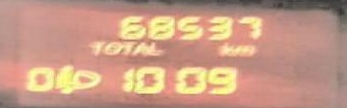0: (173, 65, 207, 94), (22, 64, 54, 93), (135, 64, 162, 93)
1: (119, 64, 132, 92)
3: (206, 14, 234, 41)
5: (176, 14, 203, 39)
6: (118, 14, 145, 39)
7: (237, 14, 264, 39)
8: (146, 13, 174, 40)
9: (207, 66, 240, 95)
X: (84, 40, 104, 56), (217, 41, 234, 56), (104, 40, 121, 55), (234, 44, 254, 55), (135, 40, 149, 55), (148, 40, 162, 55), (122, 39, 135, 55)
